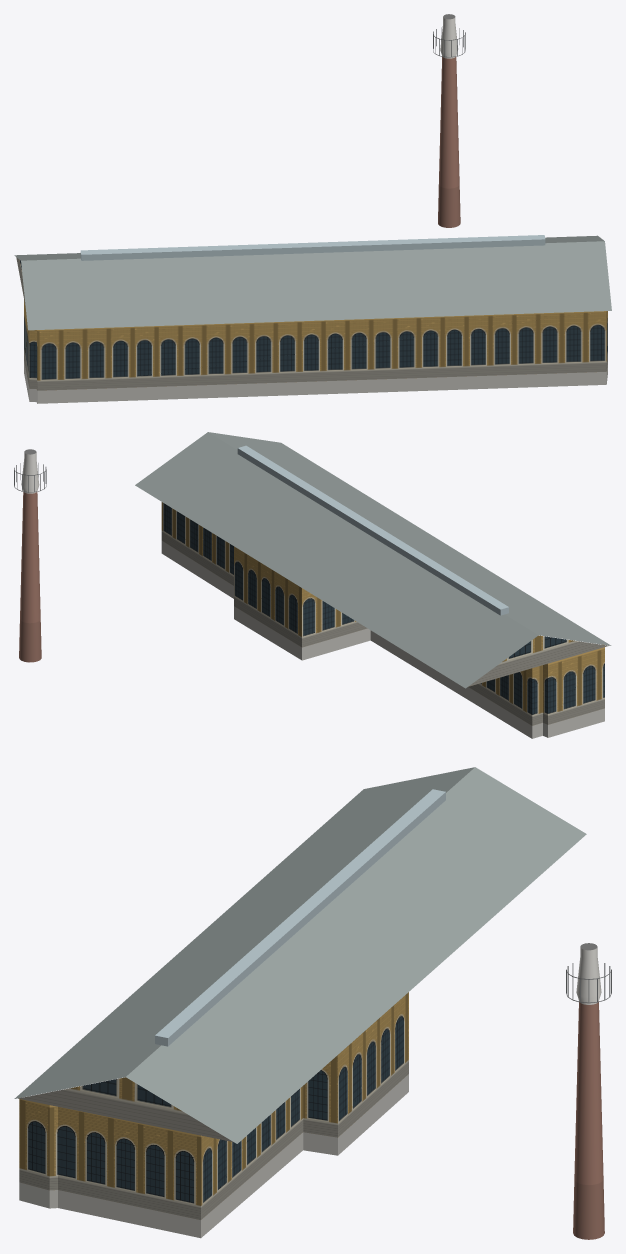
Rendered from schiffbau.glb.
The picture shows the model from 3 angles, top to bottom: view 1: azimuth 30°, elevation 25°; view 2: azimuth 150°, elevation 25°; view 3: azimuth 270°, elevation 25°; orthographic projection. The views are drawn at different scales.
Parts seen in each view (by area): view 1: schiffbau; view 2: schiffbau; view 3: schiffbau.
Part boxes in pixels (bbox=[...]): schiffbau: bbox=[14, 14, 611, 403]; schiffbau: bbox=[14, 432, 611, 738]; schiffbau: bbox=[14, 767, 611, 1239].
Size of the model in its own units: 127 by 47.62 by 90.1.
Materials: 2 (2 with a texture image).
